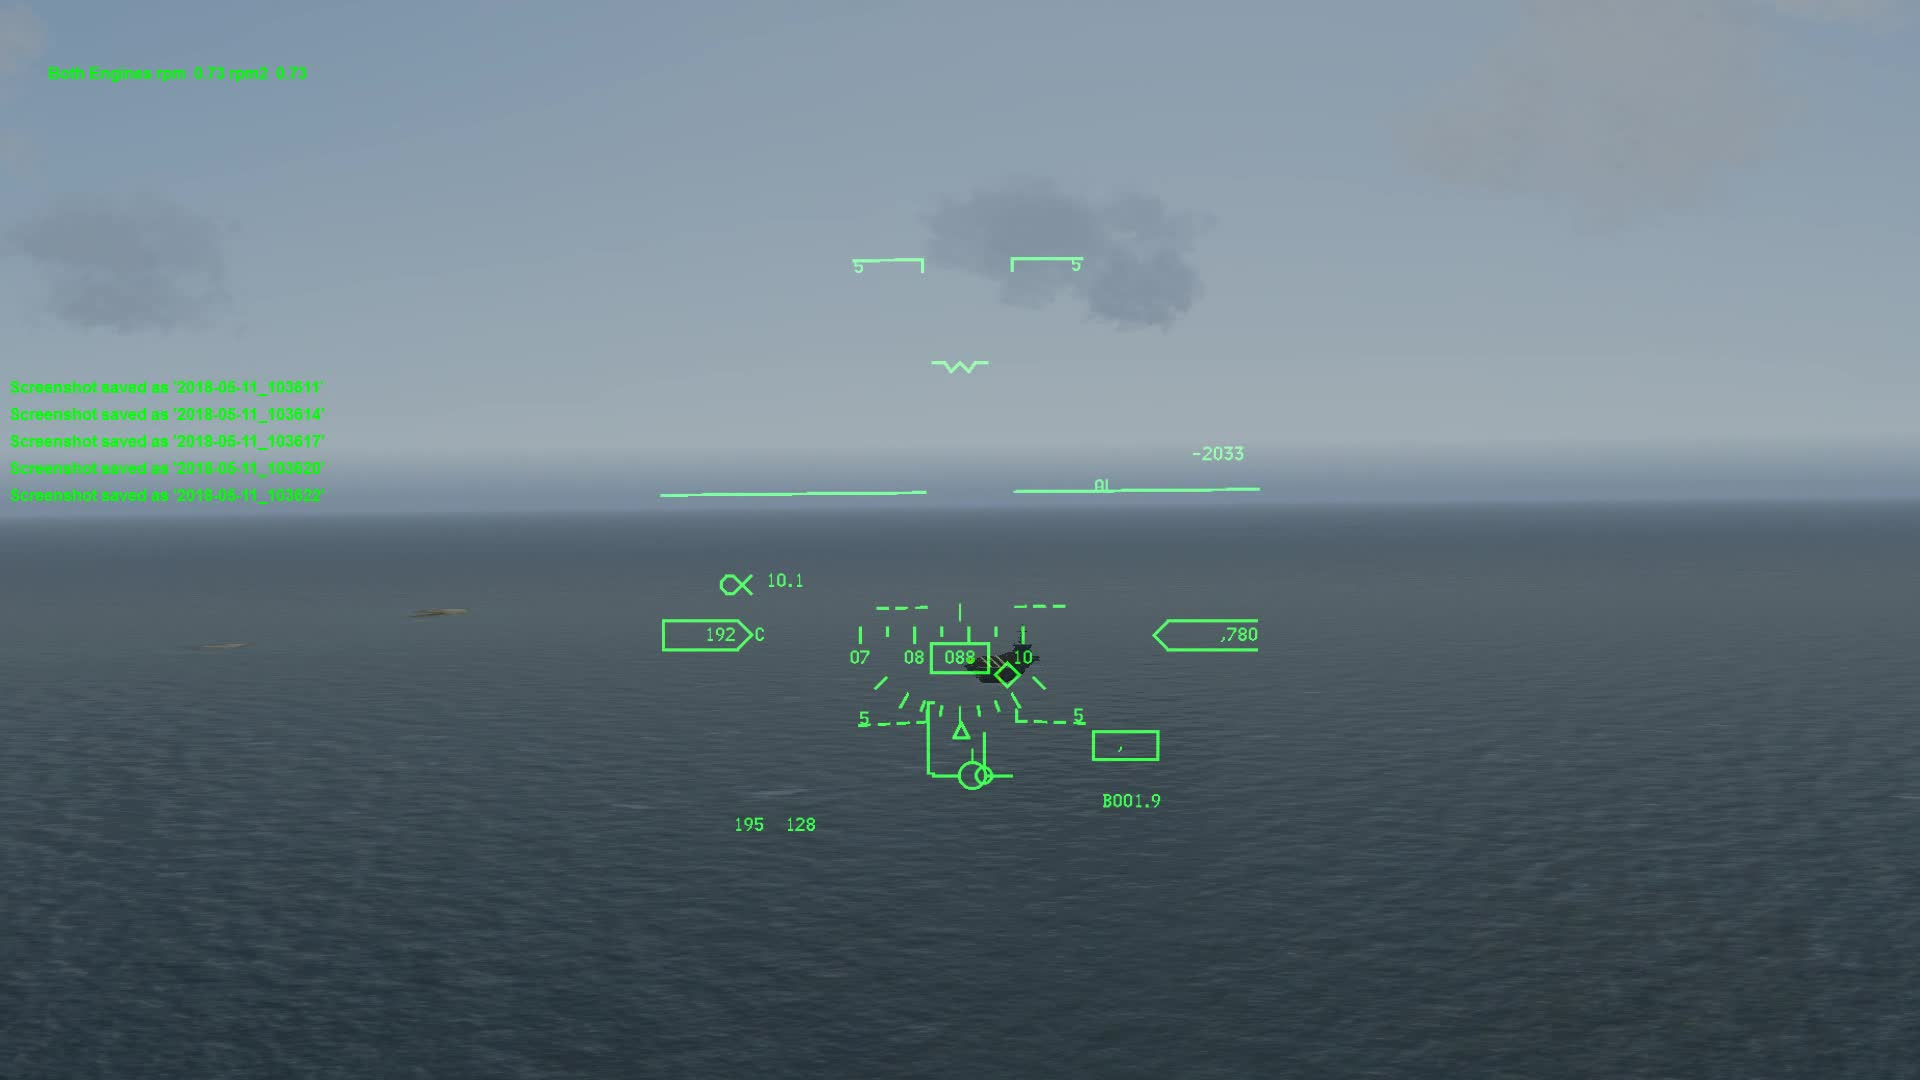speed vector: (923, 754, 1018, 794)
